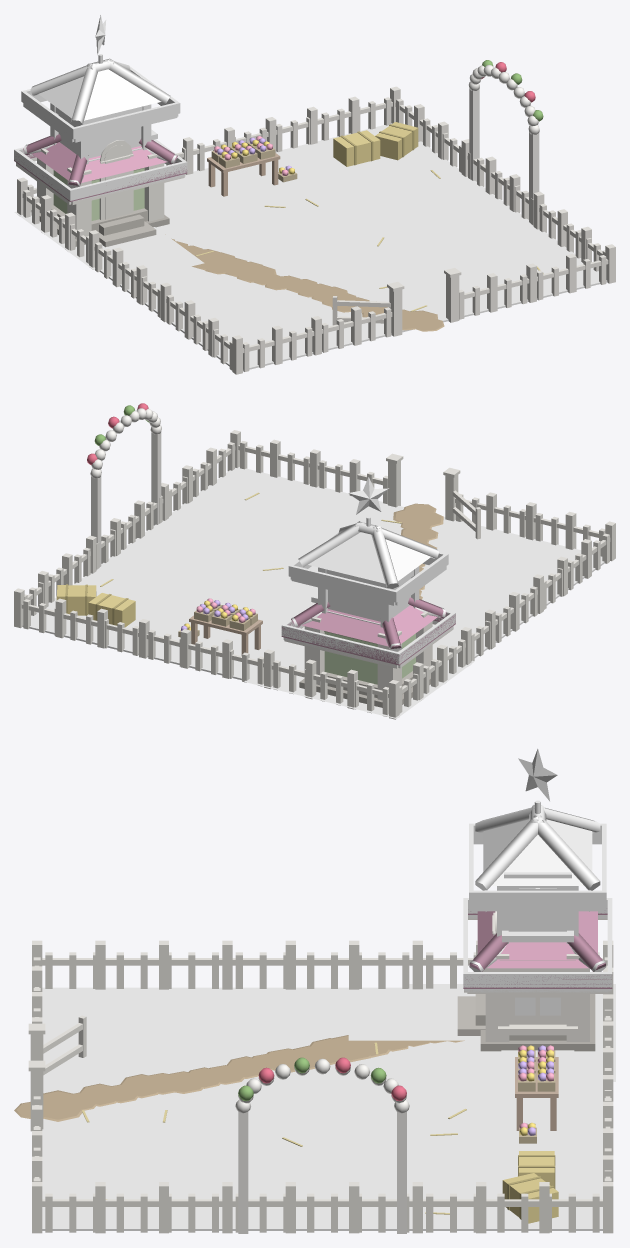
File: bloom_garden_1.glb
3 renders of one model, top to bottom at view 1: azimuth 30°, elevation 25°; view 2: azimuth 150°, elevation 25°; view 3: azimuth 270°, elevation 25°, orthographic. The views are drawn at different scales.
Parts seen in each view (by area): view 1: body5, when_plan_true, bloom_garden_1, body, body4; view 2: body5, when_plan_true, bloom_garden_1, body4, body2; view 3: body5, when_plan_true, bloom_garden_1, body4.
Boxes of the visible parts, <box> form: body5: <box>14,60,615,374</box>; when_plan_true: <box>14,15,187,203</box>; bloom_garden_1: <box>14,176,247,276</box>; body: <box>104,155,130,219</box>; body4: <box>247,136,297,182</box>; body5: <box>14,403,615,719</box>; when_plan_true: <box>281,477,455,667</box>; bloom_garden_1: <box>221,632,474,718</box>; body4: <box>178,598,222,637</box>; body2: <box>229,607,257,630</box>; body5: <box>14,911,613,1233</box>; when_plan_true: <box>463,748,612,992</box>; bloom_garden_1: <box>348,984,615,1105</box>; body4: <box>518,1068,555,1143</box>.
Bounding box in the file's own units: 2.78 × 1.41 × 2.8.
